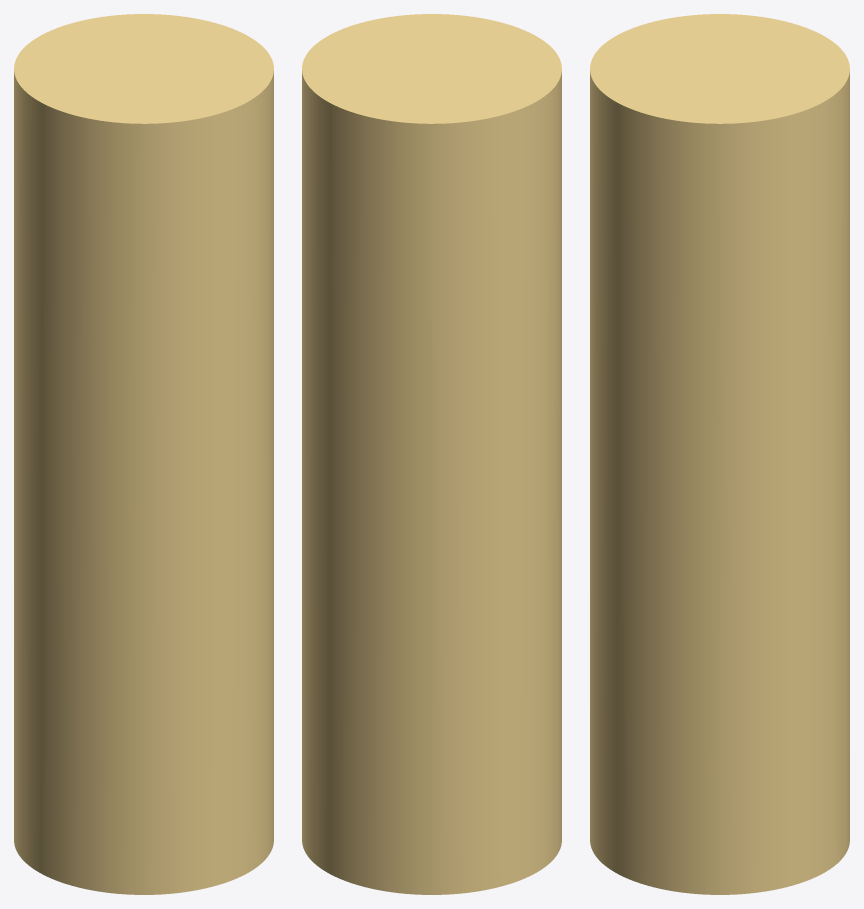
Rendered from jack_socket.glb.
The picture shows the model from 3 angles, left to right: view 1: azimuth 30°, elevation 25°; view 2: azimuth 150°, elevation 25°; view 3: azimuth 270°, elevation 25°; orthographic projection.
Bounding box in the file's own units: 0.011 × 0.036 × 0.011.
